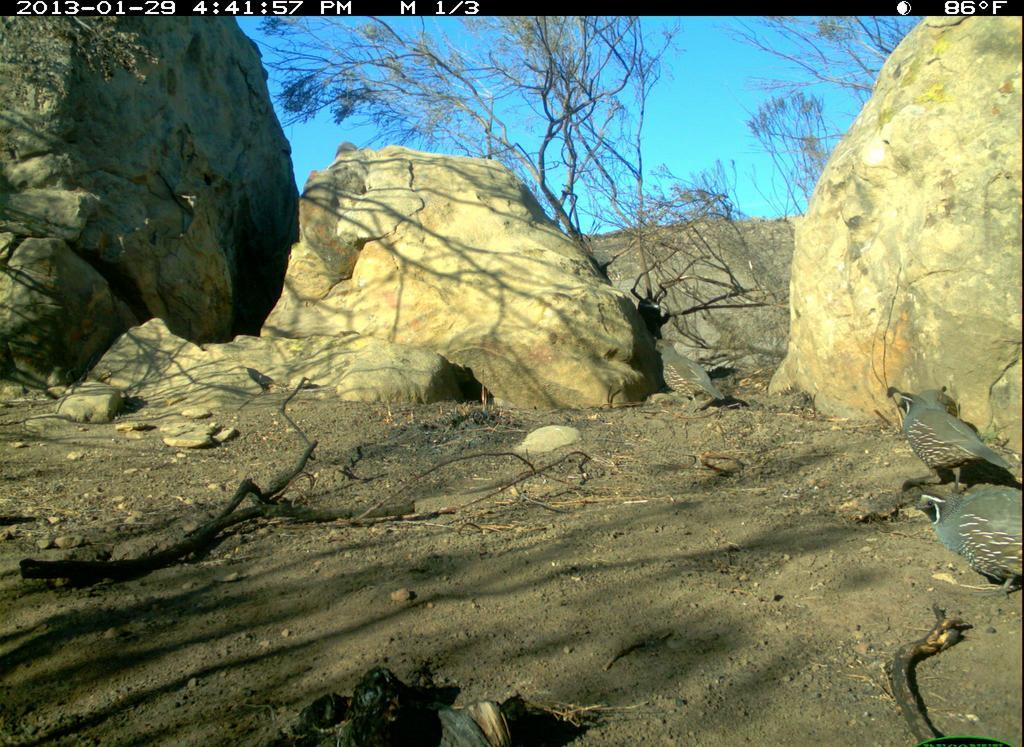bird: (884, 370, 1017, 484), (895, 489, 1018, 607), (652, 322, 731, 416)
